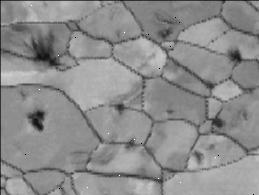good_void: (21, 31, 61, 73), (155, 12, 182, 41), (26, 108, 47, 132), (225, 51, 245, 65), (234, 106, 249, 123), (109, 101, 126, 116), (160, 104, 177, 117), (209, 117, 229, 128), (190, 150, 205, 164), (123, 138, 136, 153), (17, 88, 29, 101), (110, 28, 122, 40), (202, 142, 215, 152)
